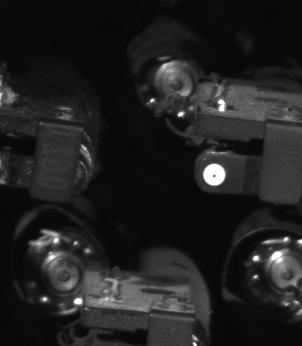fiber: (199, 159, 232, 191)
